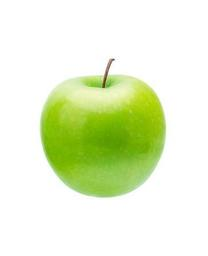apple: (39, 58, 166, 198)
